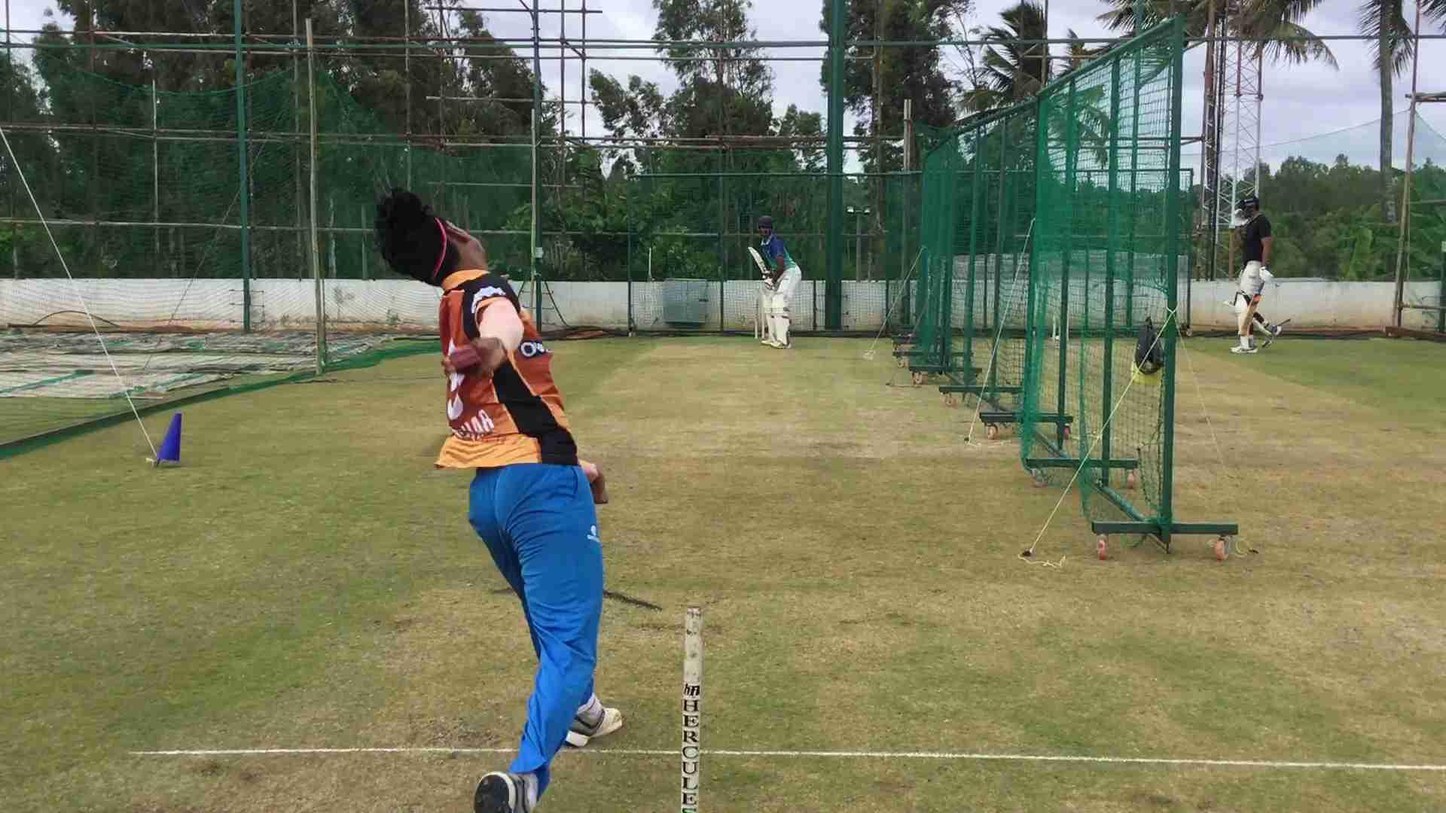batsman: (750, 206, 805, 355)
